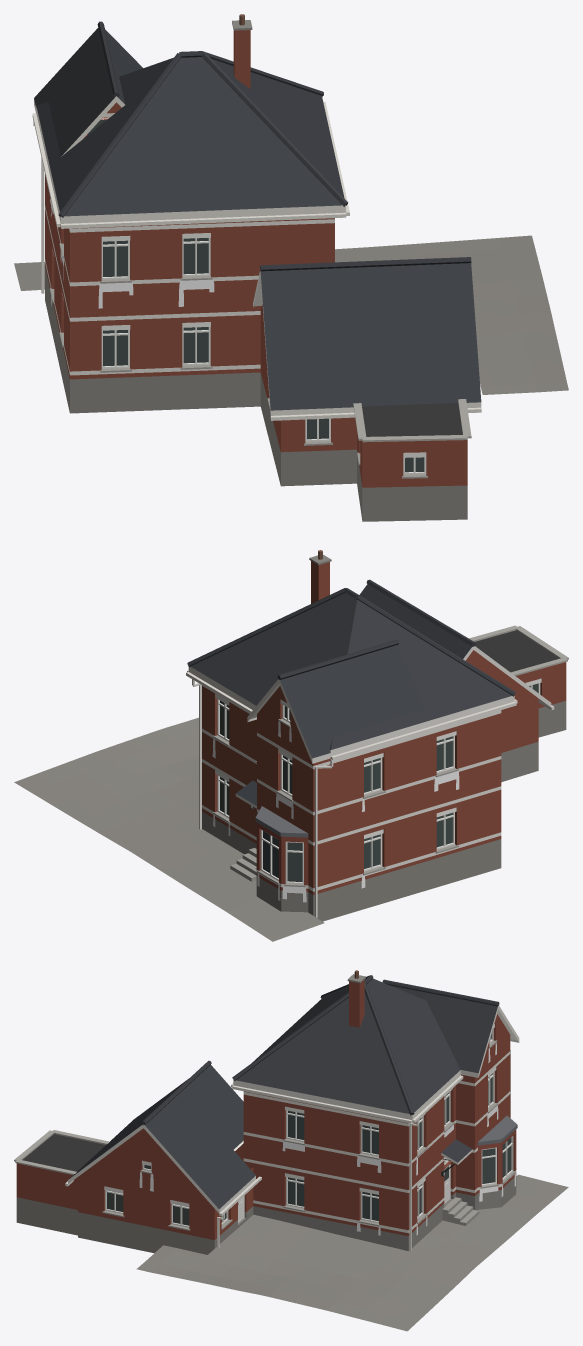
The model's file is vh_red_villa.glb.
3 views of the same model, one above another, from view 1: azimuth 30°, elevation 25°; view 2: azimuth 150°, elevation 25°; view 3: azimuth 270°, elevation 25° (orthographic). The views are drawn at different scales.
Parts seen in each view (by area): view 1: vh_roof, vh_brick, vh_stone, vh_gravel, vh_trim, vh_frames_small, vh_glass, vh_streaks_small; view 2: vh_brick, vh_roof, vh_gravel, vh_stone, vh_trim, vh_frames_small, vh_glass, vh_streaks_small; view 3: vh_brick, vh_roof, vh_gravel, vh_stone, vh_trim, vh_frames_small, vh_glass, vh_streaks_small.
Boxes of the visible parts, <box> form: vh_roof: <box>34,21,481,410</box>; vh_brick: <box>45,30,467,487</box>; vh_stone: <box>45,14,471,521</box>; vh_gravel: <box>14,235,568,394</box>; vh_trim: <box>34,96,481,457</box>; vh_frames_small: <box>32,101,481,474</box>; vh_glass: <box>88,119,424,472</box>; vh_streaks_small: <box>51,207,214,308</box>; vh_brick: <box>202,561,566,894</box>; vh_roof: <box>187,579,515,805</box>; vh_gravel: <box>14,717,324,941</box>; vh_stone: <box>202,550,568,921</box>; vh_trim: <box>188,646,551,891</box>; vh_frames_small: <box>186,670,554,917</box>; vh_glass: <box>220,683,537,881</box>; vh_streaks_small: <box>212,721,459,902</box>; vh_brick: <box>16,980,516,1239</box>; vh_roof: <box>69,975,499,1209</box>; vh_gravel: <box>136,1174,568,1331</box>; vh_stone: <box>14,970,517,1254</box>; vh_trim: <box>68,1005,519,1233</box>; vh_frames_small: <box>65,1028,513,1251</box>; vh_glass: <box>107,1034,511,1225</box>; vh_streaks_small: <box>139,1043,515,1235</box>.
Bounding box in the file's own units: 21.2 × 12.87 × 25.68.
